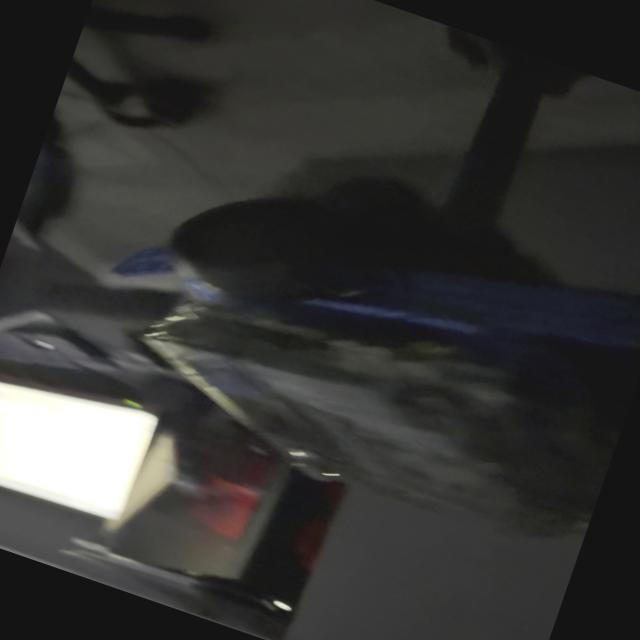mbot-detection: (61, 107, 640, 578)
